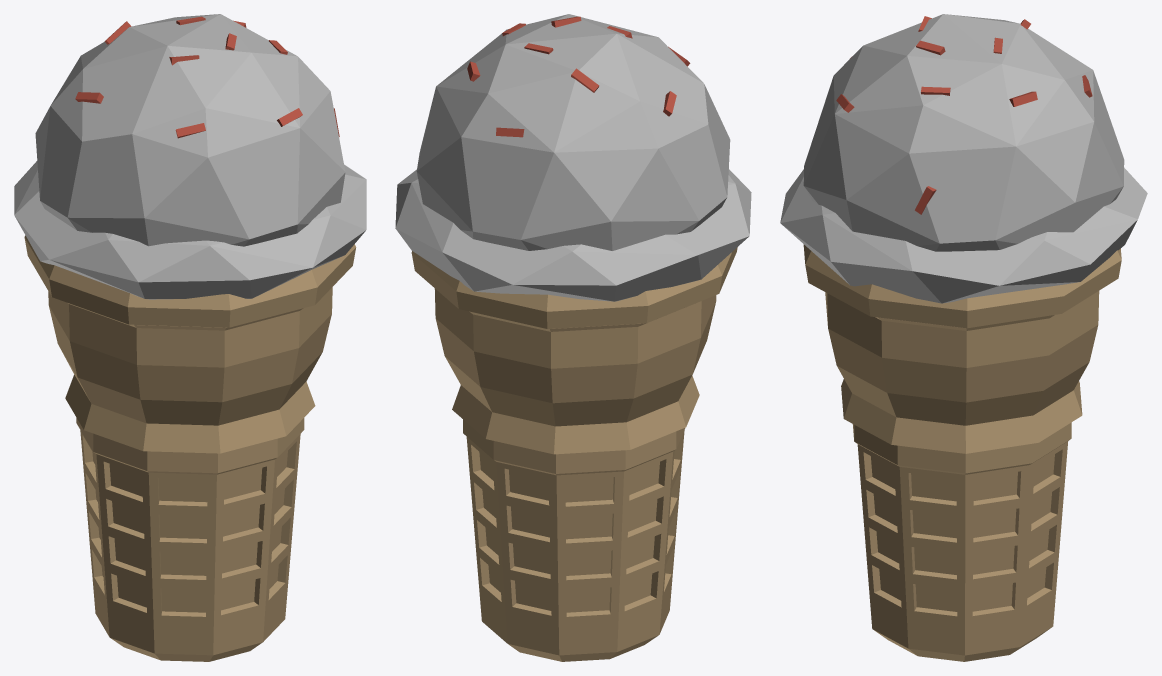
The model's file is IceCream_3.glb.
The picture shows the model from 3 angles, left to right: view 1: azimuth 30°, elevation 25°; view 2: azimuth 150°, elevation 25°; view 3: azimuth 270°, elevation 25°; orthographic projection.
Parts seen in each view (by area): view 1: IceCream_3; view 2: IceCream_3; view 3: IceCream_3.
Part boxes in pixels (<box>): IceCream_3: <box>14,14,366,661</box>; IceCream_3: <box>395,14,751,661</box>; IceCream_3: <box>780,14,1147,661</box>.
Bounding box in the file's own units: 0.5155 × 0.9274 × 0.5155.
